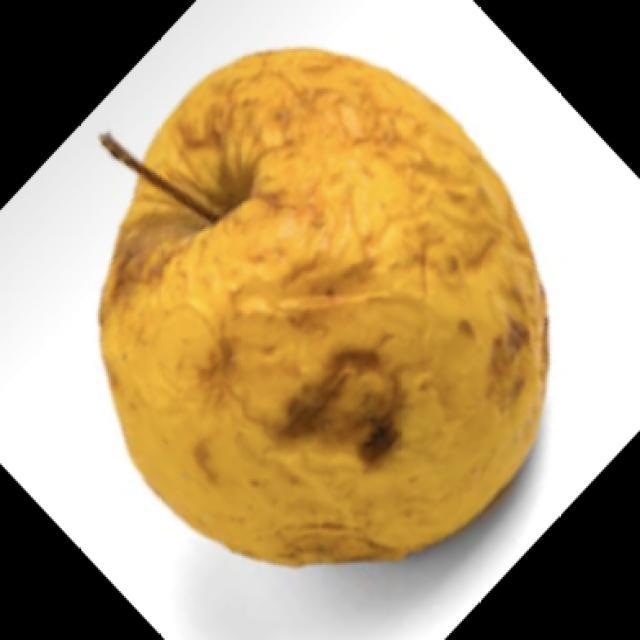Rotten: (97, 70, 545, 558)
